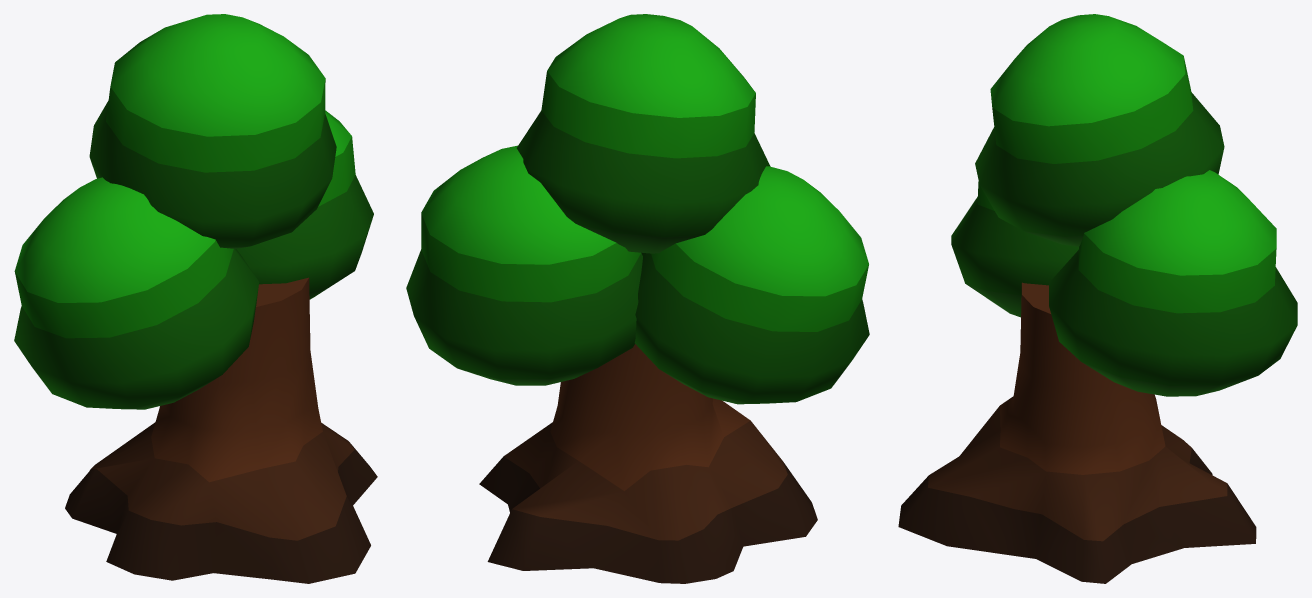
Rendered from Namu1-2.fbx.
The picture shows the model from 3 angles, left to right: view 1: azimuth 30°, elevation 25°; view 2: azimuth 150°, elevation 25°; view 3: azimuth 270°, elevation 25°; orthographic projection. The views are drawn at different scales.
Visible parts, largest first — view 1: Namu1-2; view 2: Namu1-2; view 3: Namu1-2.
Boxes of the visible parts, left/top/right/bottom form: Namu1-2: left=14, top=14, right=377, bottom=583; Namu1-2: left=406, top=14, right=869, bottom=583; Namu1-2: left=898, top=14, right=1297, bottom=583.
Size of the model in its own units: 0.833 by 1.03 by 0.7707.
